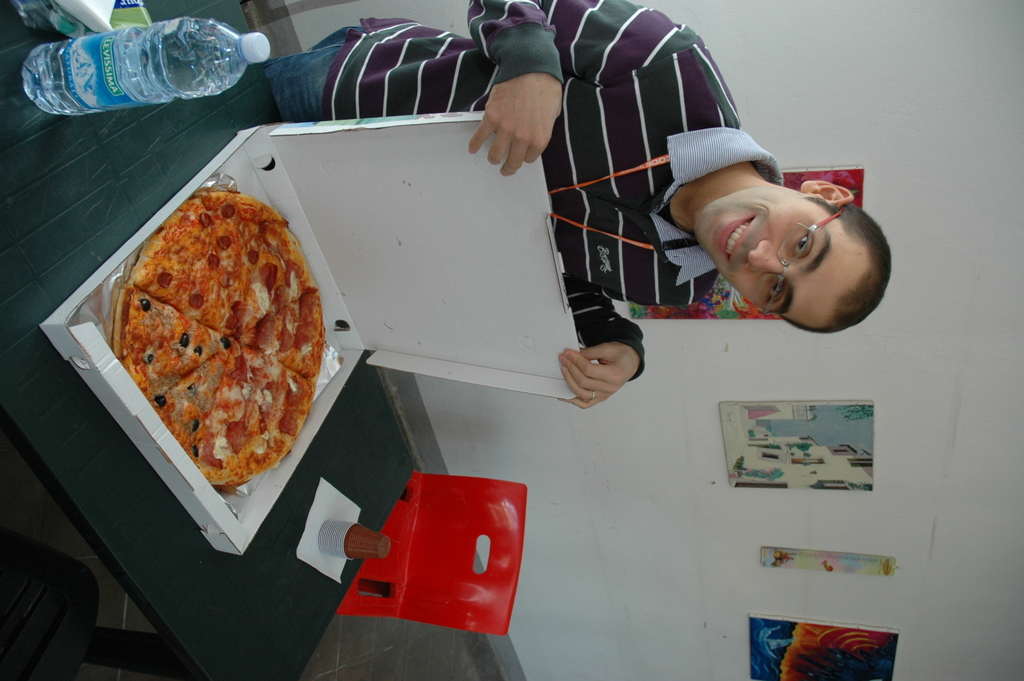Pizza: (107, 193, 319, 487)
